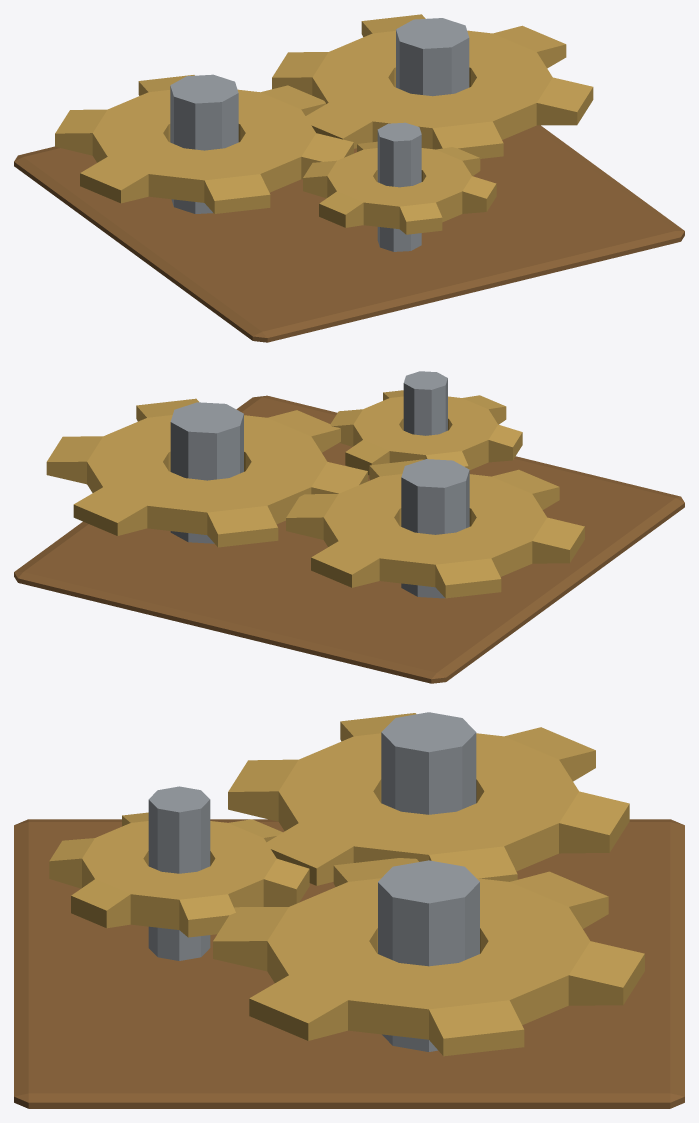
The model's file is clockwork_mechanism.glb.
3 renders of one model, top to bottom at view 1: azimuth 30°, elevation 25°; view 2: azimuth 150°, elevation 25°; view 3: azimuth 270°, elevation 25°, orthographic. The views are drawn at different scales.
Parts seen in each view (by area): view 1: Cube; view 2: Cube; view 3: Cube.
Part boxes in pixels (x1=…): Cube: x1=14, y1=14, x2=684, y2=342; Cube: x1=14, y1=371, x2=684, y2=683; Cube: x1=14, y1=712, x2=684, y2=1108.
Bounding box in the file's own units: 0.4 × 0.0929 × 0.3481.
